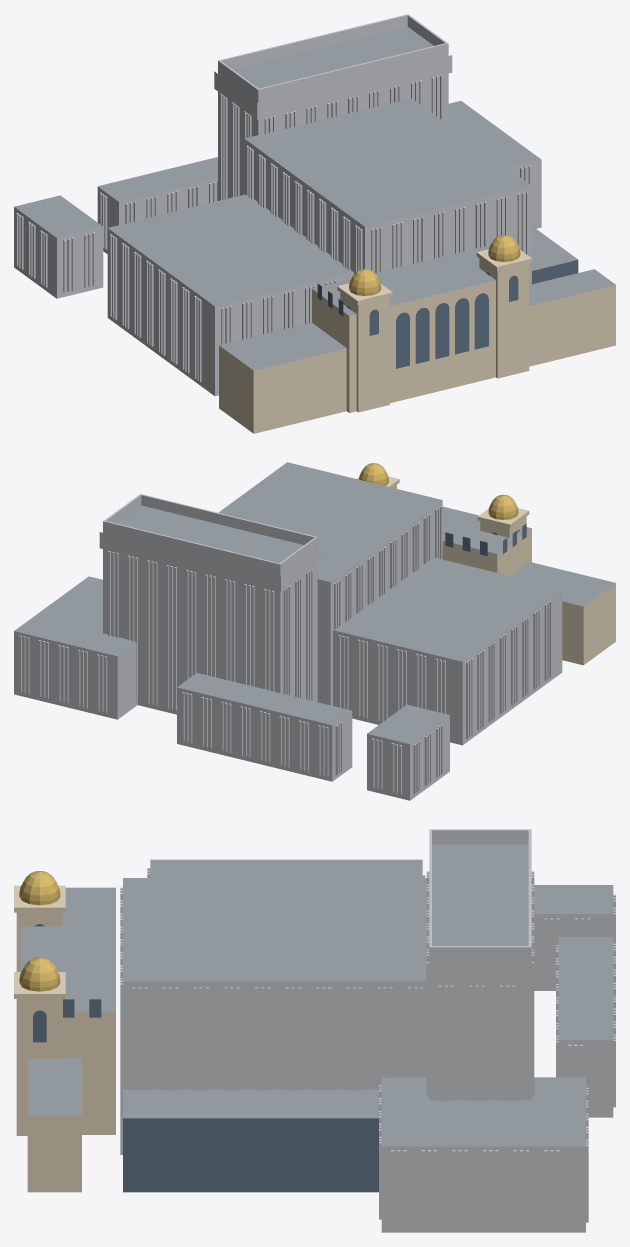
Rendered from sat-tobin-center.glb.
3 views of the same model, one above another, from view 1: azimuth 30°, elevation 25°; view 2: azimuth 150°, elevation 25°; view 3: azimuth 270°, elevation 25° (orthographic). The views are drawn at different scales.
Visible parts, largest first — view 1: Tobin Center for the Performing Arts; view 2: Tobin Center for the Performing Arts; view 3: Tobin Center for the Performing Arts.
Part boxes in pixels (x1=…): Tobin Center for the Performing Arts: x1=14, y1=14, x2=615, y2=433; Tobin Center for the Performing Arts: x1=14, y1=462, x2=615, y2=800; Tobin Center for the Performing Arts: x1=14, y1=829, x2=615, y2=1232.
Size of the model in its own units: 94.8 by 38.8 by 88.4.
